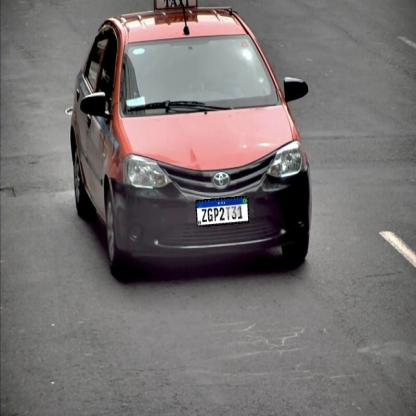PlacaM: (196, 196, 249, 227)
